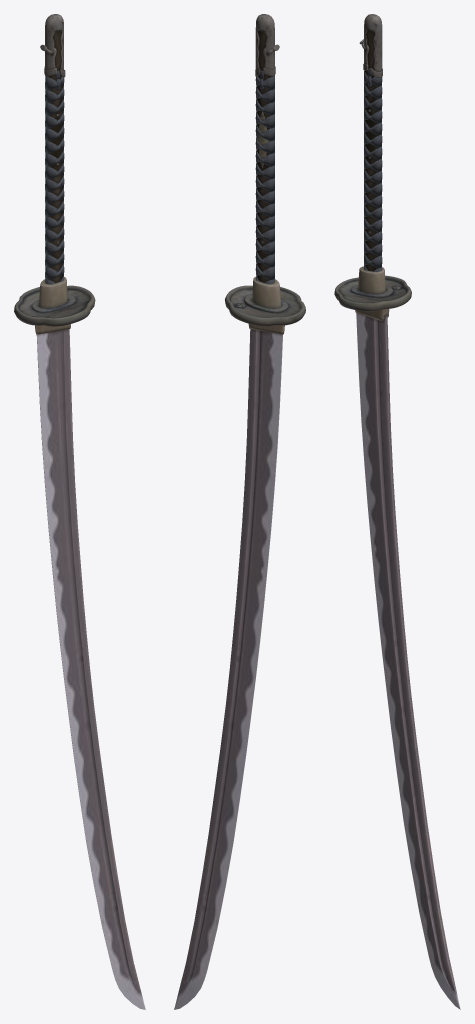
File: weapon-wp_a_1671.glb
3 renders of one model, left to right at view 1: azimuth 30°, elevation 25°; view 2: azimuth 150°, elevation 25°; view 3: azimuth 330°, elevation 25°, orthographic. The views are drawn at different scales.
Visible parts, largest first — view 1: wp_a_1671_mesh; view 2: wp_a_1671_mesh; view 3: wp_a_1671_mesh.
Part boxes in pixels (x1,y1,x2,y2): wp_a_1671_mesh: (14, 14, 145, 1009); wp_a_1671_mesh: (174, 14, 305, 1009); wp_a_1671_mesh: (334, 14, 460, 1009).
Bounding box in the file's own units: 0.2956 × 2.26 × 0.1579.
1 material, 1 textured.
